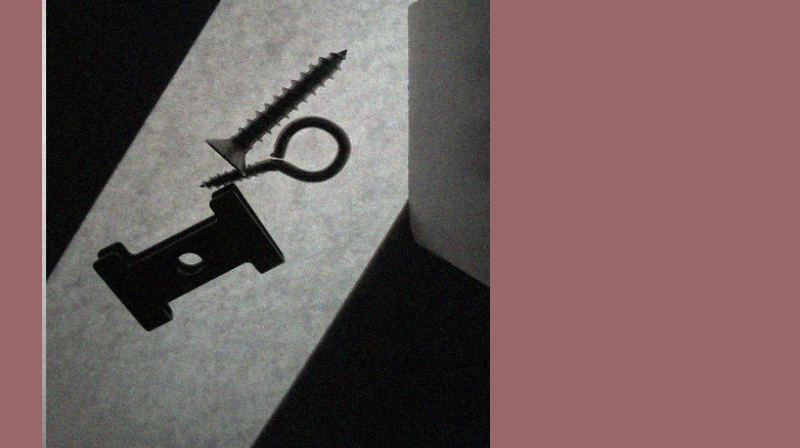O001: (198, 113, 355, 187)
O002: (90, 183, 284, 333)
S001: (204, 48, 349, 173)
